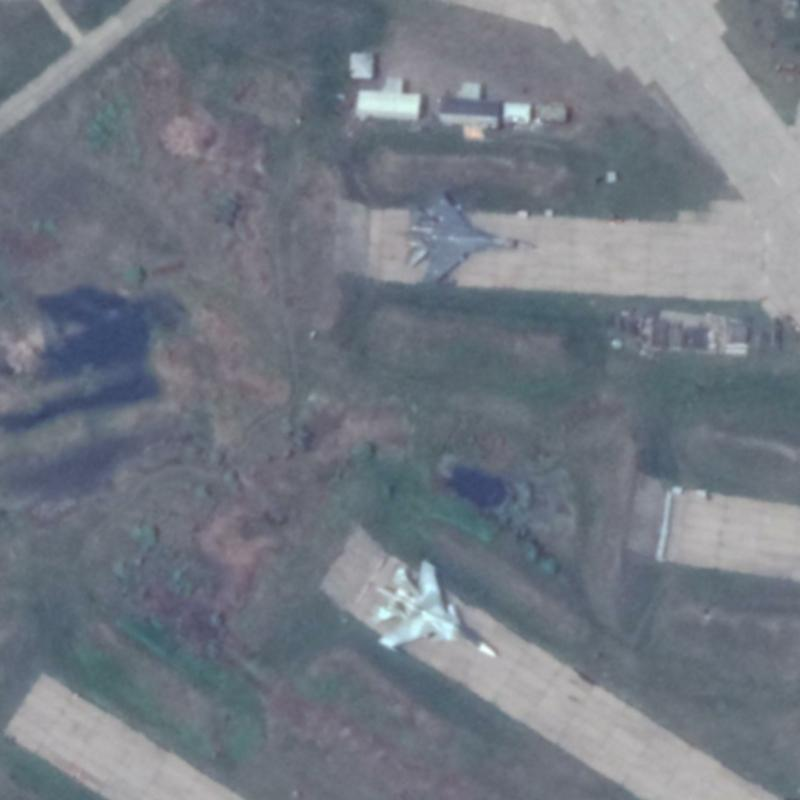A1: (400, 183, 541, 287)
A19: (373, 556, 503, 661)
